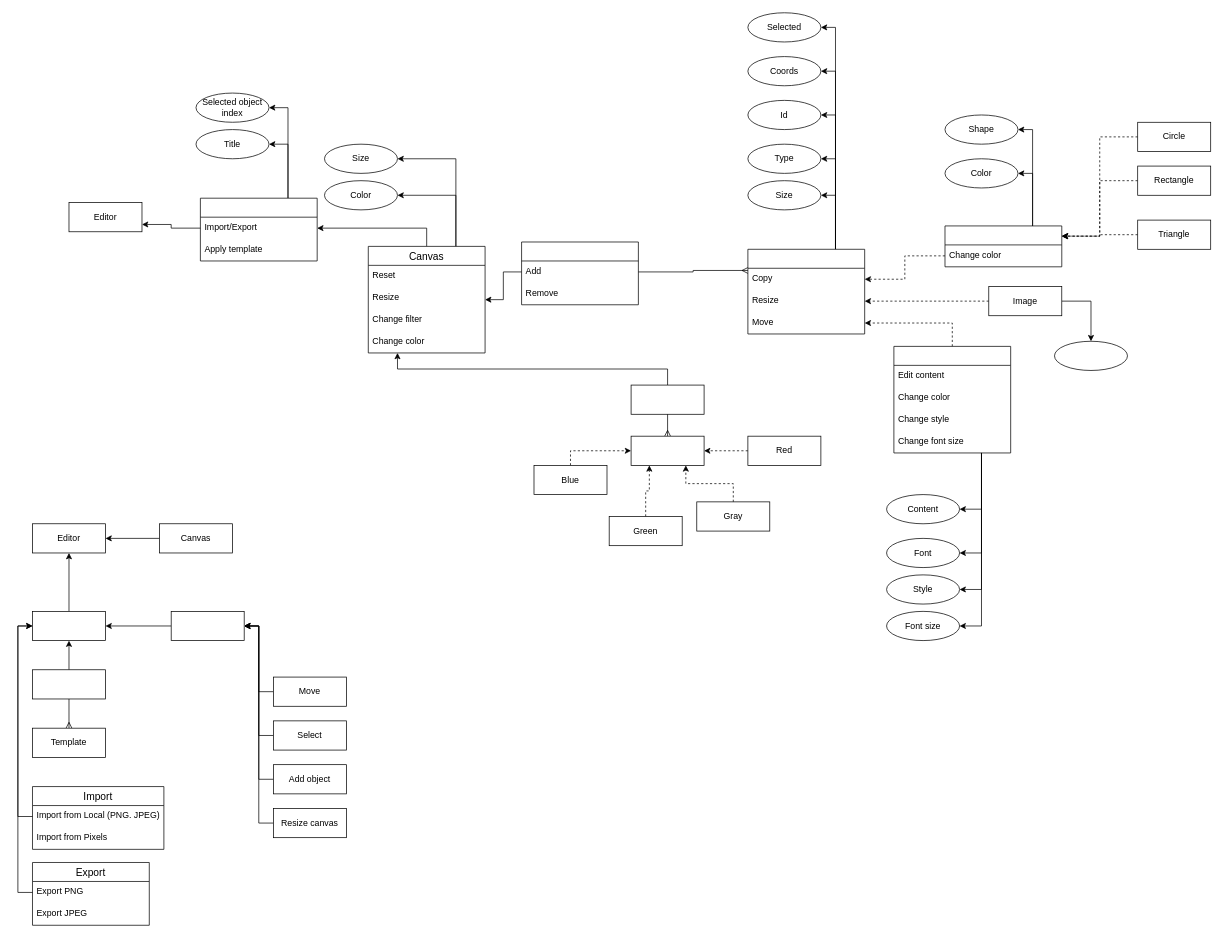
This 1223x940 diagram has some shape labels left out. Here are the shapes that lost their labels. From the top down, the box of each, then its label:
(200, 197, 317, 261): Card
(944, 225, 1062, 267): Art Object
(521, 241, 638, 305): Objects
(747, 249, 865, 334): Object
(1054, 341, 1127, 370): Source
(630, 384, 704, 414): Filters
(893, 346, 1011, 453): Text
(630, 435, 704, 465): Filter
(32, 611, 105, 641): Header
(170, 611, 244, 641): Tools
(32, 669, 105, 699): Templates
